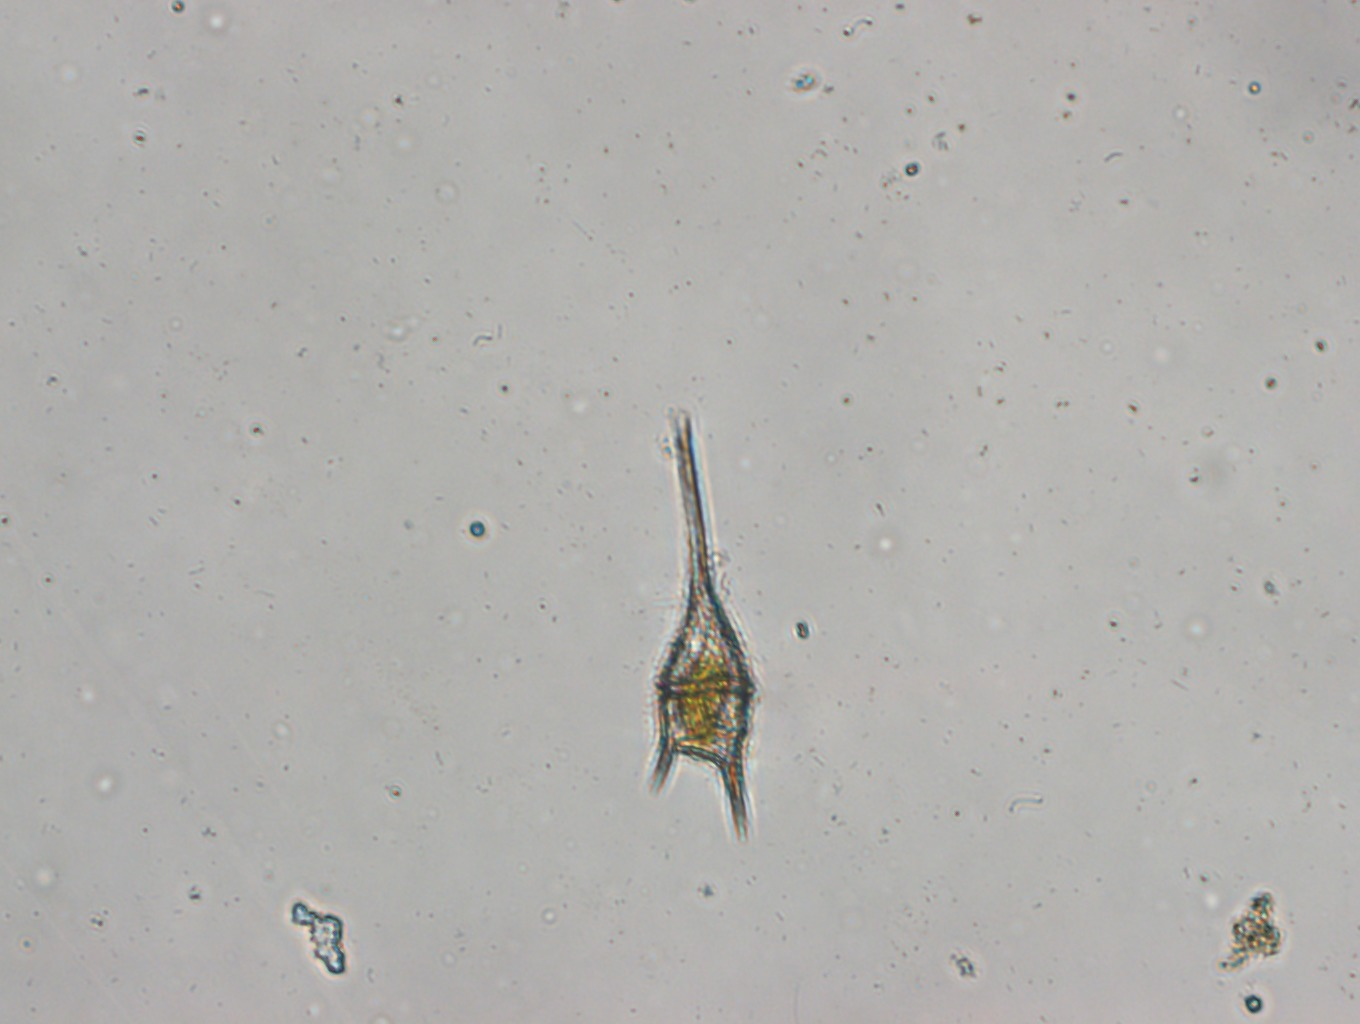ceratium furca: (643, 394, 768, 861)
